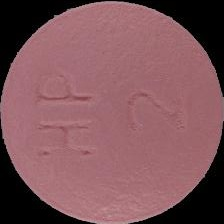23155-002: (0, 0, 224, 224)
